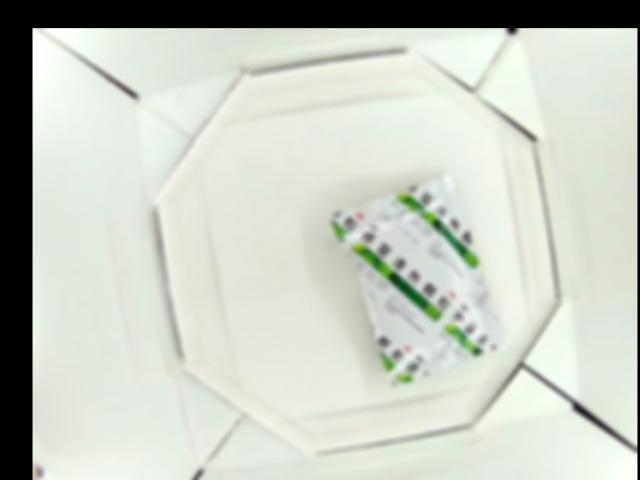Medicine: (326, 171, 506, 389)
